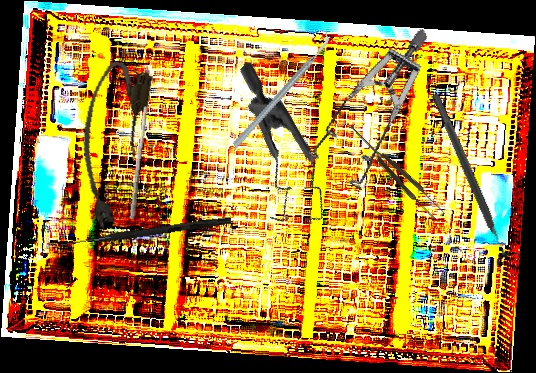Cannula: (66, 58, 155, 232)
Chopper: (206, 30, 356, 150)
Fixation Ring: (422, 89, 523, 268)
Hook Surgical: (60, 214, 232, 251)
Pusher: (129, 75, 153, 220)
Speculum: (179, 60, 371, 244), (281, 26, 474, 206)
Tissue Forceps: (345, 119, 445, 222)
